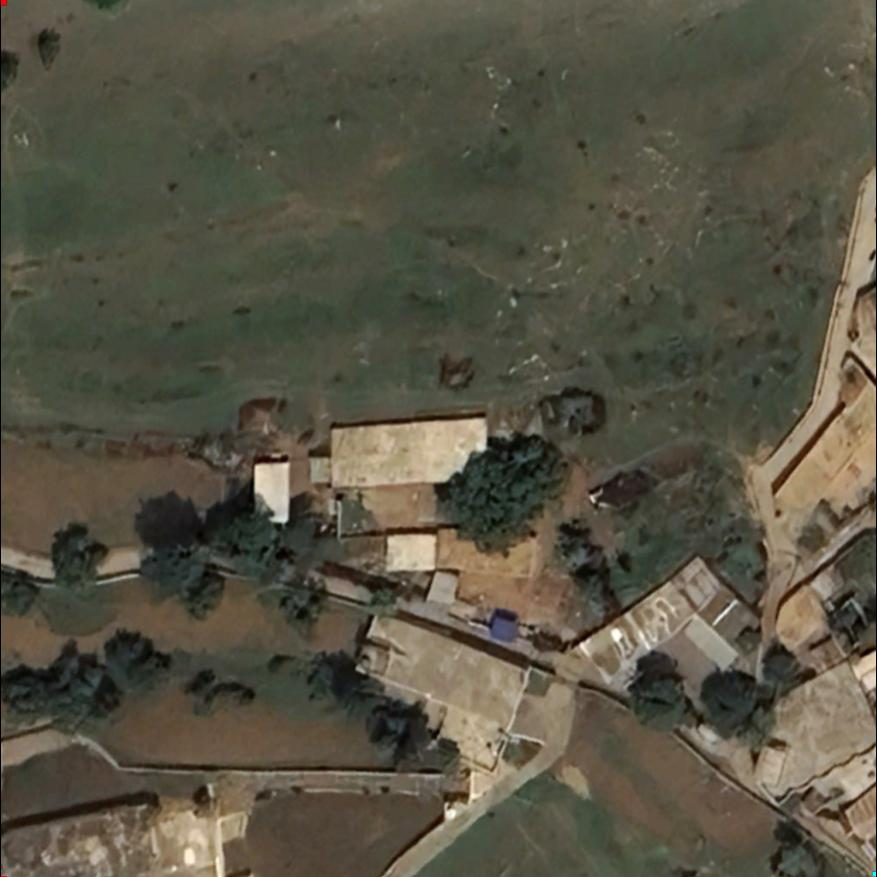Solarpanel: (489, 616, 520, 645)
